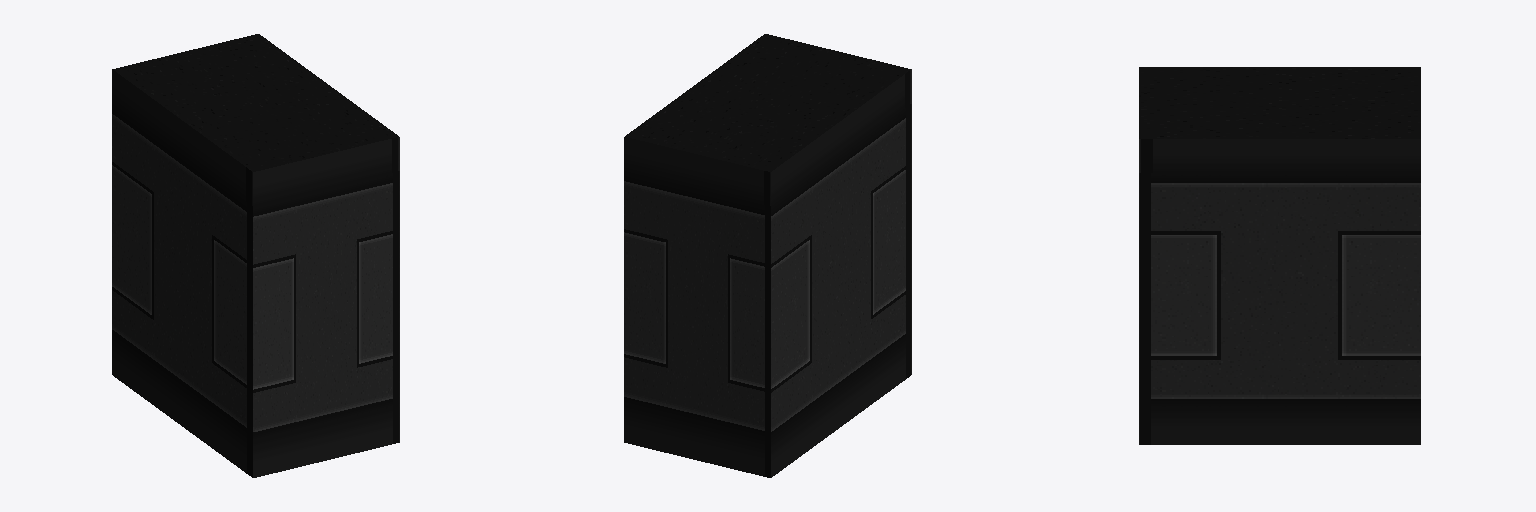
3 renders of one model, left to right at view 1: azimuth 30°, elevation 25°; view 2: azimuth 150°, elevation 25°; view 3: azimuth 270°, elevation 25°, orthographic.
Visible parts, largest first — view 1: door2; view 2: door2; view 3: door2.
Part boxes in pixels (left/top/right/bottom): door2: left=112, top=34, right=399, bottom=477; door2: left=624, top=34, right=911, bottom=477; door2: left=1139, top=67, right=1420, bottom=444.
Size of the model in its own units: 0.6 by 1.2 by 1.
Materials: 2 (1 with a texture image).